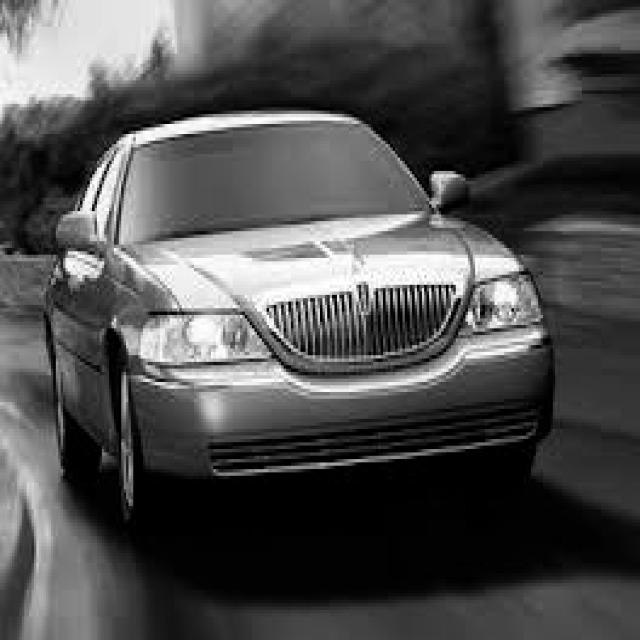car: (41, 104, 555, 529)
